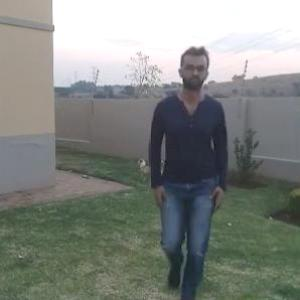follow: (150, 60, 220, 299)
